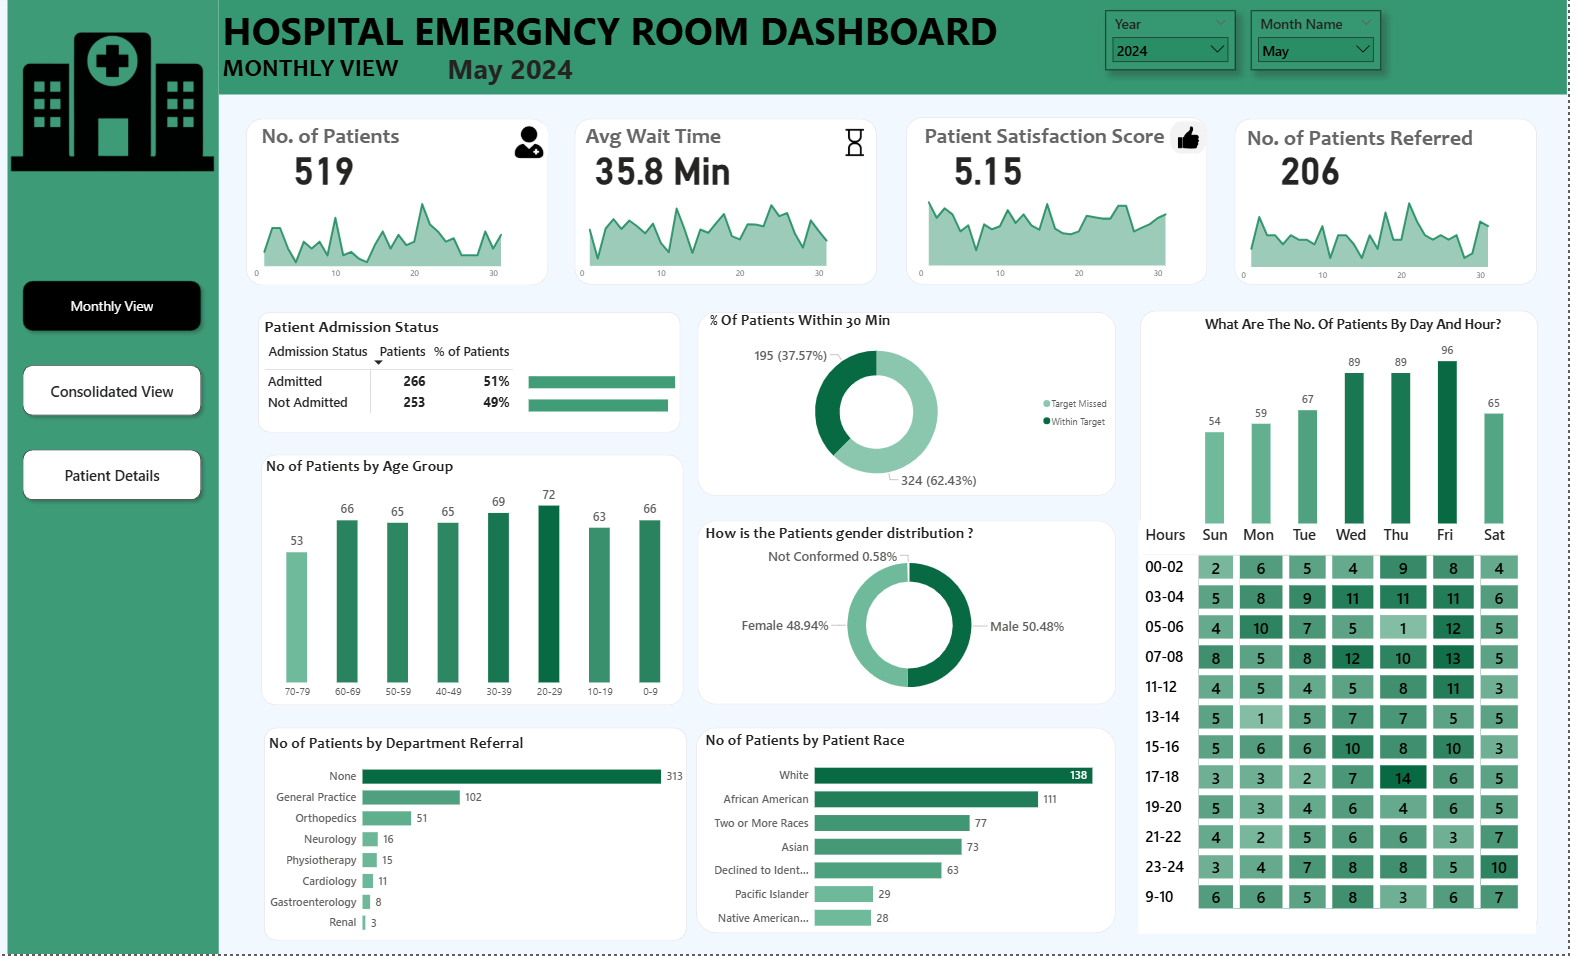

The dashboard page shown, as its layout file describes it:
{"tool":"powerbi","page":{"name":"Monthly View","canvas":[2300,1400],"ordinal":0},"visuals":[{"type":"shape","box":[10.9,0,310,1401.2],"z":0},{"type":"shape","box":[321.1,0,1978,138.8],"z":1000},{"type":"textbox","box":[321.1,0,1191.7,103.4],"z":2000},{"type":"textbox","box":[321.1,70.7,353.7,68],"z":3000},{"type":"shape","box":[361.9,174.1,443.5,244.9],"z":4000},{"type":"card","fields":{"Values":["Hospital ER_Data.N of Patients"]},"box":[361.9,209.5,225.8,68],"z":5000},{"type":"slicer","fields":{"Values":["Date Table.Year"]},"box":[1621.6,16.3,190.5,87.1],"z":6000},{"type":"slicer","fields":{"Values":["Date Table.Month Name"]},"box":[1836.6,16.3,190.5,87.1],"z":7000},{"type":"textbox","box":[378.2,174.1,236.7,68],"z":8000},{"type":"areaChart","fields":{"Y":["Hospital ER_Data.N of Patients"],"Category":["Date Table.Date.Variation.Date Hierarchy.Day"]},"box":[361.9,274.8,435.3,144.2],"z":9000},{"type":"card","fields":{"Values":["Min(Date Table.Month & Year)"]},"box":[587.7,65.3,321.1,68],"z":10000},{"type":"shape","box":[842,174,444,244],"z":11000},{"type":"card","fields":{"Values":["Hospital ER_Data.Avg Wait Time"]},"box":[854.3,209.5,236.7,68],"z":12000},{"type":"textbox","box":[853.9,174,236.7,68],"z":13000},{"type":"areaChart","fields":{"Category":["Date Table.Date.Variation.Date Hierarchy.Day"],"Y":["Avg(Hospital ER_Data.Patient Waittime)"]},"box":[838,277.5,435.3,141.5],"z":14000},{"type":"shape","box":[1330,172,442,246],"z":15000},{"type":"card","fields":{"Values":["Avg(Hospital ER_Data.Patient Satisfaction Score)"]},"box":[1335.9,209.5,225.8,68],"z":16000},{"type":"textbox","box":[1352.3,174.1,394.5,68],"z":17000},{"type":"areaChart","fields":{"Y":["Avg(Hospital ER_Data.Patient Satisfaction Score)"],"Category":["Date Table.Date.Variation.Date Hierarchy.Day"]},"box":[1335.3,275.4,435.3,144.2],"z":18000},{"type":"shape","box":[1812,174,444,244],"z":19000},{"type":"card","fields":{"Values":["Hospital ER_Data.No. of Patients Referred"]},"box":[1809.4,212.2,225.8,65.3],"z":20000},{"type":"textbox","box":[1825.7,176.9,419,68],"z":21000},{"type":"areaChart","fields":{"Category":["Date Table.Date.Variation.Date Hierarchy.Day"],"Y":["Hospital ER_Data.No. of Patients Referred"]},"box":[1809.7,278.2,435.3,144.2],"z":22000},{"type":"shape","box":[378.2,457.1,620,177],"z":23000},{"type":"pivotTable","title":"Patient Admission Status","fields":{"Rows":["Hospital ER_Data.Admission Status"],"Values":["Hospital ER_Data.No of Patients1","Hospital ER_Data.No of Patients"]},"box":[382.7,463.6,620,164.5],"z":24000},{"type":"barChart","fields":{"Category":["Hospital ER_Data.Admission Status"],"Y":["Hospital ER_Data.No of Patients"]},"box":[770,520.8,252.5,106.7],"z":25000},{"type":"shape","box":[382,666,620,368],"z":26000},{"type":"columnChart","fields":{"Category":["Hospital ER_Data.Age Group"],"Y":["Hospital ER_Data.No of Patients"]},"box":[386,670,620,366],"z":27000},{"type":"shape","box":[386.4,1066.6,620.4,312.9],"z":28000},{"type":"clusteredBarChart","fields":{"Category":["Hospital ER_Data.Department Referral"],"Y":["Hospital ER_Data.No of Patients"]},"box":[388.6,1077.1,618.6,305.7],"z":29000},{"type":"shape","box":[1024,458,614,270],"z":30000},{"type":"donutChart","title":"% Of Patients Within 30 Min","fields":{"Category":["Hospital ER_Data.Wait Time Status"],"Y":["Hospital ER_Data.No of Patients"]},"box":[1036,456,602,270],"z":31000},{"type":"shape","box":[1024,764,614,270],"z":32000},{"type":"donutChart","title":"How is the Patients gender distribution ?","fields":{"Y":["Hospital ER_Data.No of Patients"],"Category":["Hospital ER_Data.Patient Gender"]},"box":[1030,768,608,270],"z":33000},{"type":"shape","box":[1022,1068,616,302],"z":34000},{"type":"clusteredBarChart","fields":{"Y":["Hospital ER_Data.No of Patients"],"Category":["Hospital ER_Data.Patient Race"]},"box":[1030,1072,608,306],"z":35000},{"type":"shape","box":[1672,456,584,914],"z":36000},{"type":"pivotTable","fields":{"Rows":["Hospital ER_Data.Wait time Interval"],"Columns":["Hospital ER_Data.WeekDay"],"Values":["Hospital ER_Data.No of Patients"]},"box":[1671.7,763.3,583.3,606.7],"z":37000},{"type":"columnChart","title":"What Are The No. Of Patients By Day And Hour?","fields":{"Category":["Hospital ER_Data.WeekDay"],"Y":["Hospital ER_Data.No of Patients"]},"box":[1763.3,463.3,450,311.7],"z":38000},{"type":"image","box":[1225.6,175.6,56.7,65.6],"z":39000},{"type":"image","box":[748.6,177.1,55.7,65.7],"z":40000},{"type":"image","box":[1717.1,175.7,54.3,51.4],"z":41000},{"type":"image","box":[16.3,0,299.3,299.3],"z":42000},{"type":"pageNavigator","box":[24.5,402.7,280.2,342.8],"z":42001}]}

Visuals, with their boxes in screenshot pixels (x1, y1, x2, y2), scaled from the page's 2300x1400 canvas onto the 1570x956 screenshot:
shape: x1=7, y1=0, x2=219, y2=955
shape: x1=219, y1=0, x2=1569, y2=95
textbox: x1=219, y1=0, x2=1033, y2=71
textbox: x1=219, y1=48, x2=461, y2=95
shape: x1=247, y1=119, x2=550, y2=286
card - Hospital ER_Data.N of Patients: x1=247, y1=143, x2=401, y2=189
slicer - Date Table.Year: x1=1107, y1=11, x2=1237, y2=71
slicer - Date Table.Month Name: x1=1254, y1=11, x2=1384, y2=71
textbox: x1=258, y1=119, x2=420, y2=165
areaChart - Hospital ER_Data.N of Patients x Date Table.Date.Variation.Date Hierarchy.Day: x1=247, y1=188, x2=544, y2=286
card - Min(Date Table.Month & Year): x1=401, y1=45, x2=620, y2=91
shape: x1=575, y1=119, x2=878, y2=285
card - Hospital ER_Data.Avg Wait Time: x1=583, y1=143, x2=745, y2=189
textbox: x1=583, y1=119, x2=744, y2=165
areaChart - Date Table.Date.Variation.Date Hierarchy.Day x Avg(Hospital ER_Data.Patient Waittime): x1=572, y1=189, x2=869, y2=286
shape: x1=908, y1=117, x2=1210, y2=285
card - Avg(Hospital ER_Data.Patient Satisfaction Score): x1=912, y1=143, x2=1066, y2=189
textbox: x1=923, y1=119, x2=1192, y2=165
areaChart - Avg(Hospital ER_Data.Patient Satisfaction Score) x Date Table.Date.Variation.Date Hierarchy.Day: x1=911, y1=188, x2=1209, y2=287
shape: x1=1237, y1=119, x2=1540, y2=285
card - Hospital ER_Data.No. of Patients Referred: x1=1235, y1=145, x2=1389, y2=189
textbox: x1=1246, y1=121, x2=1532, y2=167
areaChart - Date Table.Date.Variation.Date Hierarchy.Day x Hospital ER_Data.No. of Patients Referred: x1=1235, y1=190, x2=1532, y2=288
shape: x1=258, y1=312, x2=681, y2=433
"Patient Admission Status" pivotTable: x1=261, y1=317, x2=684, y2=429
barChart - Hospital ER_Data.Admission Status x Hospital ER_Data.No of Patients: x1=526, y1=356, x2=698, y2=428
shape: x1=261, y1=455, x2=684, y2=706
columnChart - Hospital ER_Data.Age Group x Hospital ER_Data.No of Patients: x1=263, y1=458, x2=687, y2=707
shape: x1=264, y1=728, x2=687, y2=942
clusteredBarChart - Hospital ER_Data.Department Referral x Hospital ER_Data.No of Patients: x1=265, y1=736, x2=688, y2=944
shape: x1=699, y1=313, x2=1118, y2=497
"% Of Patients Within 30 Min" donutChart: x1=707, y1=311, x2=1118, y2=496
shape: x1=699, y1=522, x2=1118, y2=706
"How is the Patients gender distribution ?" donutChart: x1=703, y1=524, x2=1118, y2=709
shape: x1=698, y1=729, x2=1118, y2=936
clusteredBarChart - Hospital ER_Data.No of Patients x Hospital ER_Data.Patient Race: x1=703, y1=732, x2=1118, y2=941
shape: x1=1141, y1=311, x2=1540, y2=936
pivotTable - Hospital ER_Data.Wait time Interval x Hospital ER_Data.WeekDay: x1=1141, y1=521, x2=1539, y2=936
"What Are The No. Of Patients By Day And Hour?" columnChart: x1=1204, y1=316, x2=1511, y2=529
image: x1=837, y1=120, x2=875, y2=165
image: x1=511, y1=121, x2=549, y2=166
image: x1=1172, y1=120, x2=1209, y2=155
image: x1=11, y1=0, x2=215, y2=204
pageNavigator: x1=17, y1=275, x2=208, y2=509
